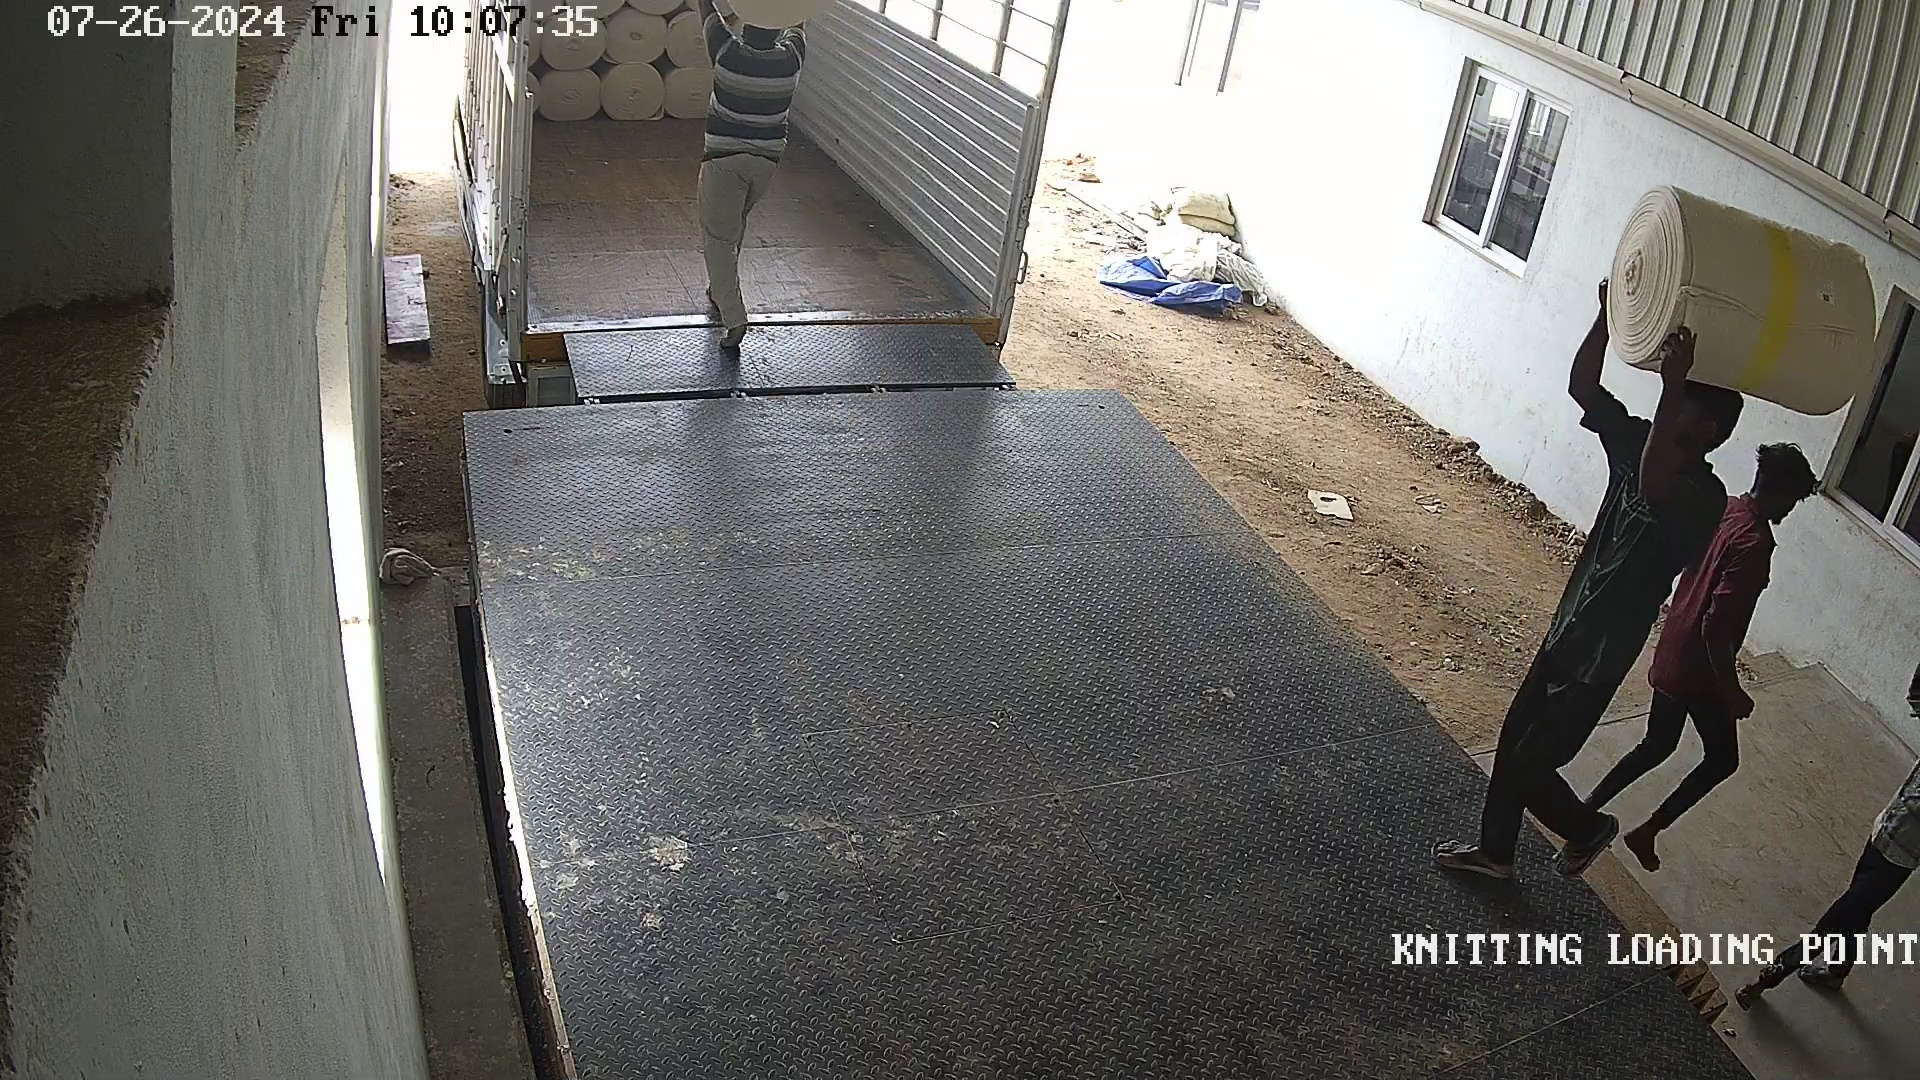bag: (1601, 179, 1880, 421)
